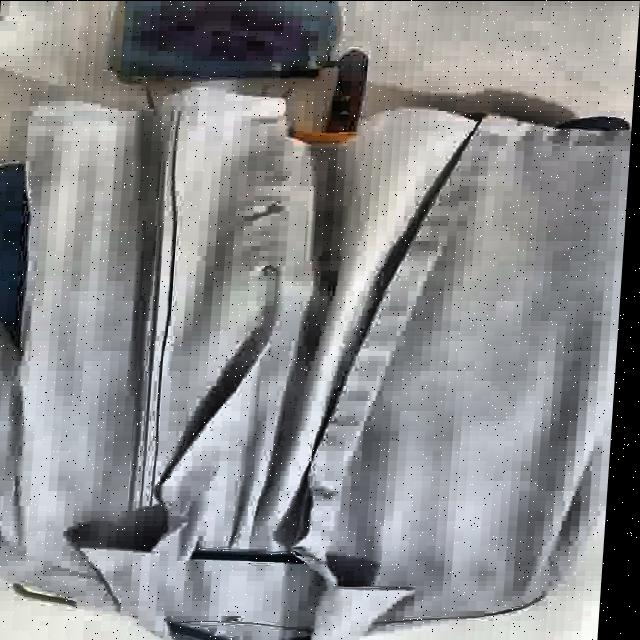clothes: (0, 84, 634, 640)
